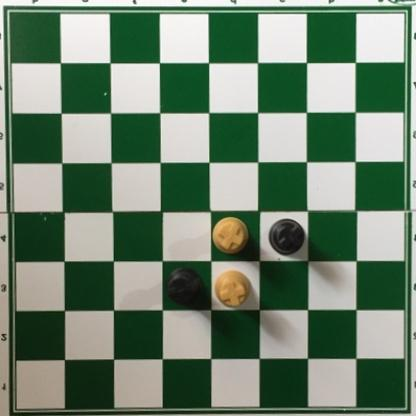black-rook: (161, 266, 205, 307), (269, 218, 305, 255)
white-rook: (212, 215, 250, 257), (216, 269, 253, 308)
